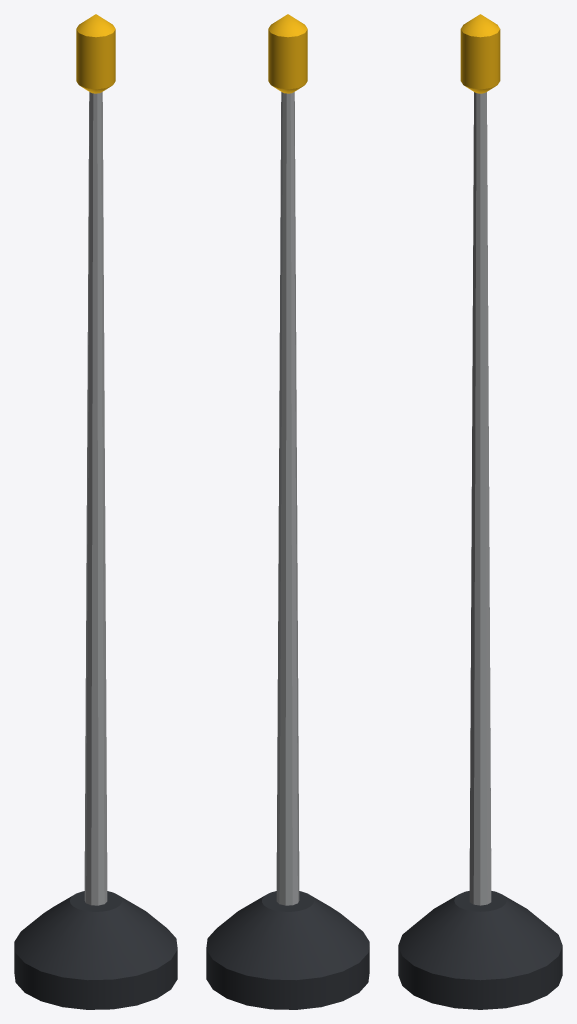
Rendered from antenna_omni.glb.
The picture shows the model from 3 angles, left to right: view 1: azimuth 30°, elevation 25°; view 2: azimuth 150°, elevation 25°; view 3: azimuth 270°, elevation 25°; orthographic projection.
Parts seen in each view (by area): view 1: Whip, Base.001, Tip; view 2: Whip, Base.001, Tip; view 3: Base.001, Whip, Tip.
Boxes of the visible parts, x1,y1,x2,y2 form: Whip: (84,92,107,905); Base.001: (14,891,177,1009); Tip: (76,14,115,93); Whip: (276,92,299,905); Base.001: (206,891,369,1009); Tip: (268,14,307,93); Base.001: (398,891,562,1009); Whip: (469,92,491,905); Tip: (460,14,500,93).
Bounding box in the file's own units: 0.1 × 0.645 × 0.1.
